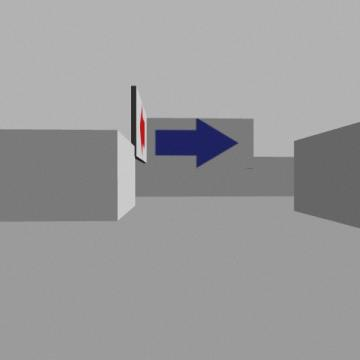blue_right: (155, 118, 237, 167)
